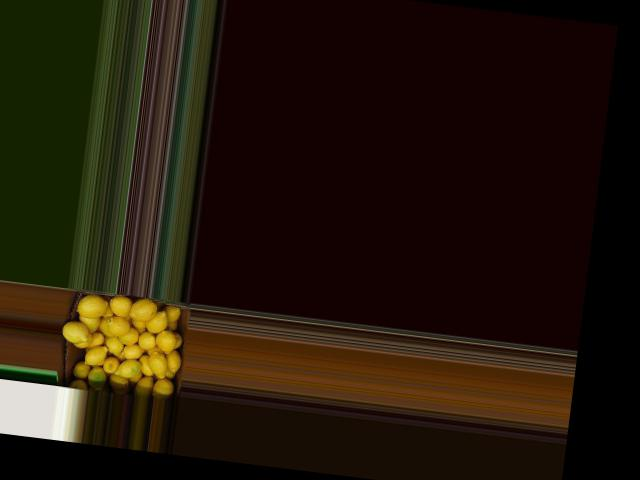lemon: (105, 336, 123, 356)
